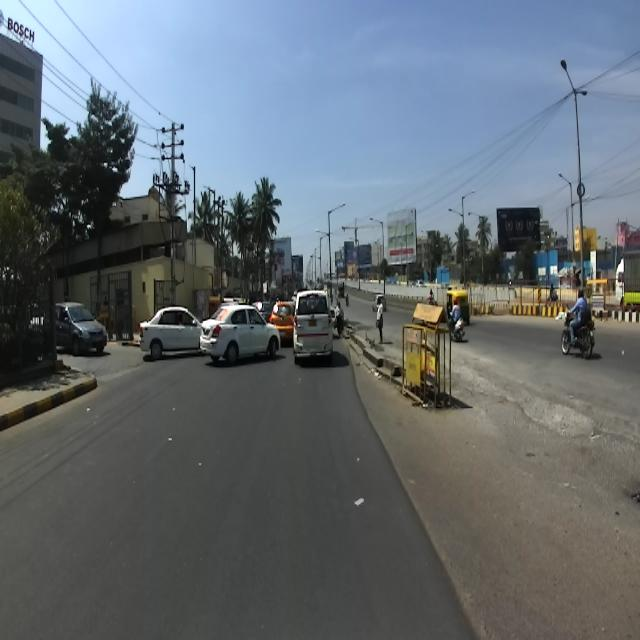barrier ahead at: (395, 301, 453, 407)
car ahead at: (202, 298, 282, 364), (138, 301, 204, 352), (290, 292, 334, 363)
